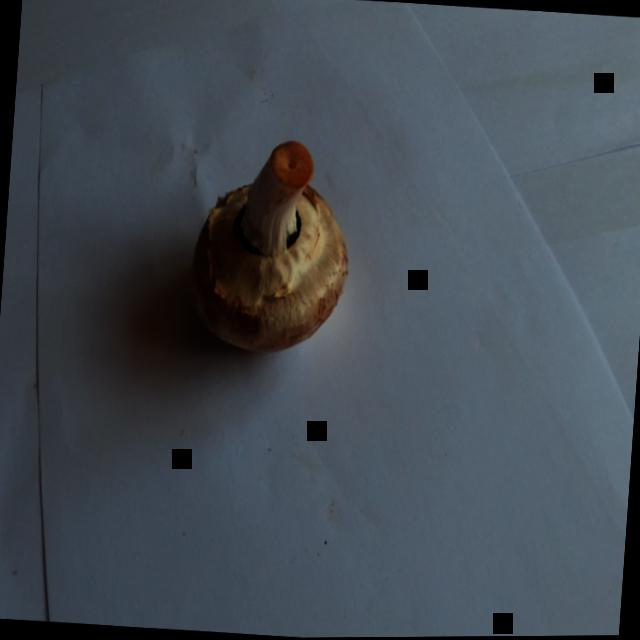Buttonmushroom: (160, 78, 404, 410)
